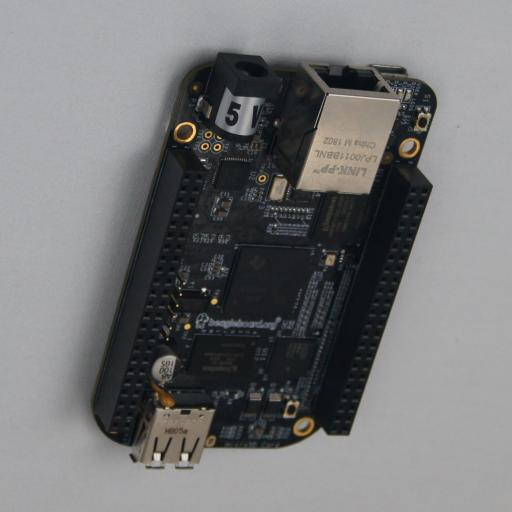Beaglebone Black: (84, 51, 436, 469)
